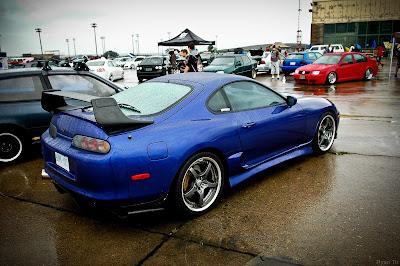small: (39, 70, 341, 219)
